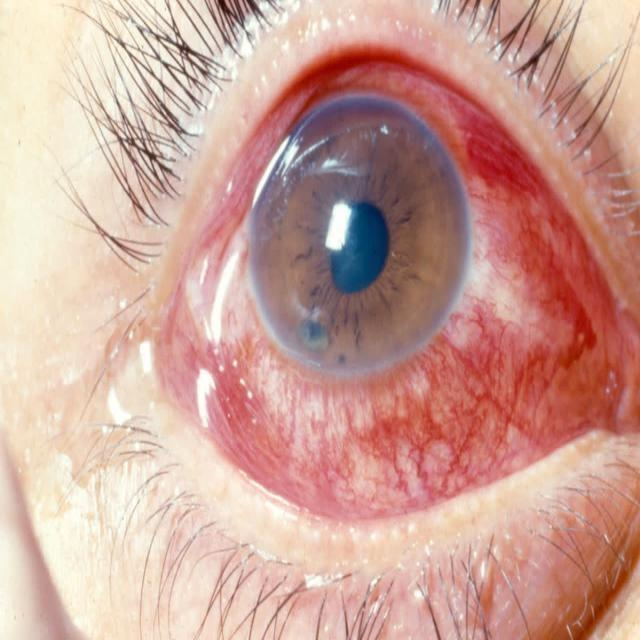Conjunctivitis: (129, 61, 640, 528)
